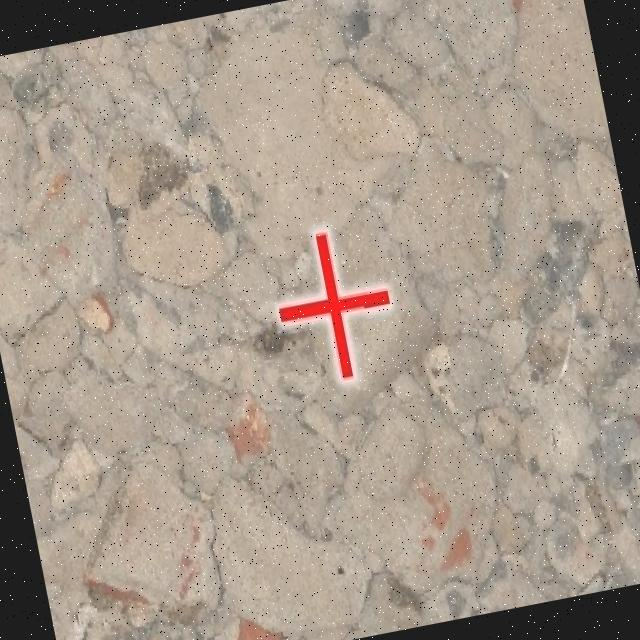x_marker: (265, 221, 402, 389)
